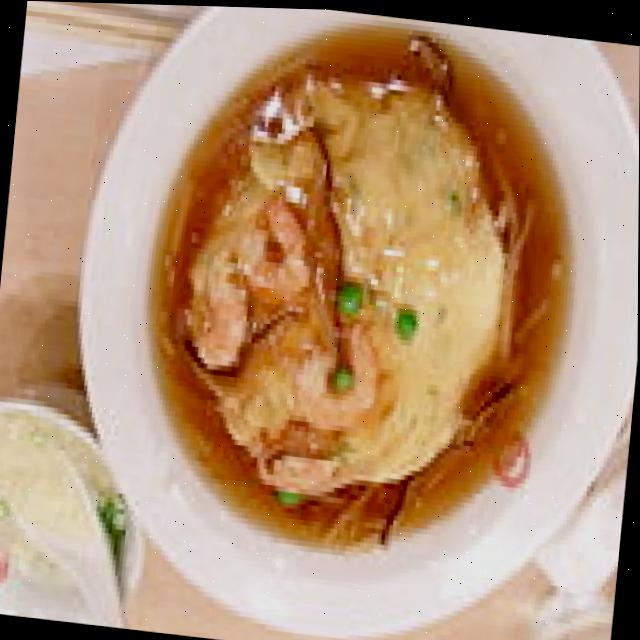面条主食: (141, 12, 596, 597)
